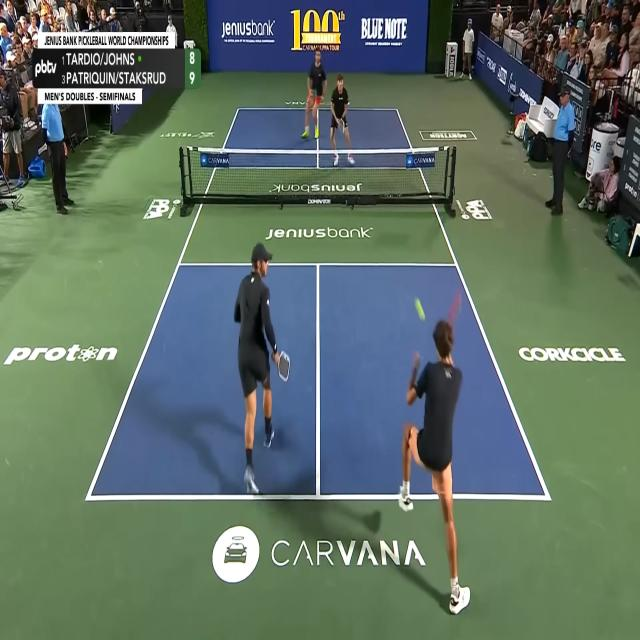ball: (414, 296, 426, 322)
